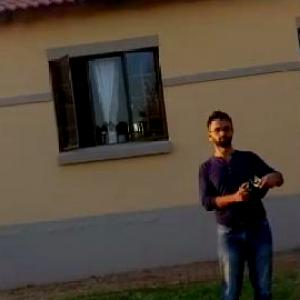follow: (191, 102, 290, 299)
